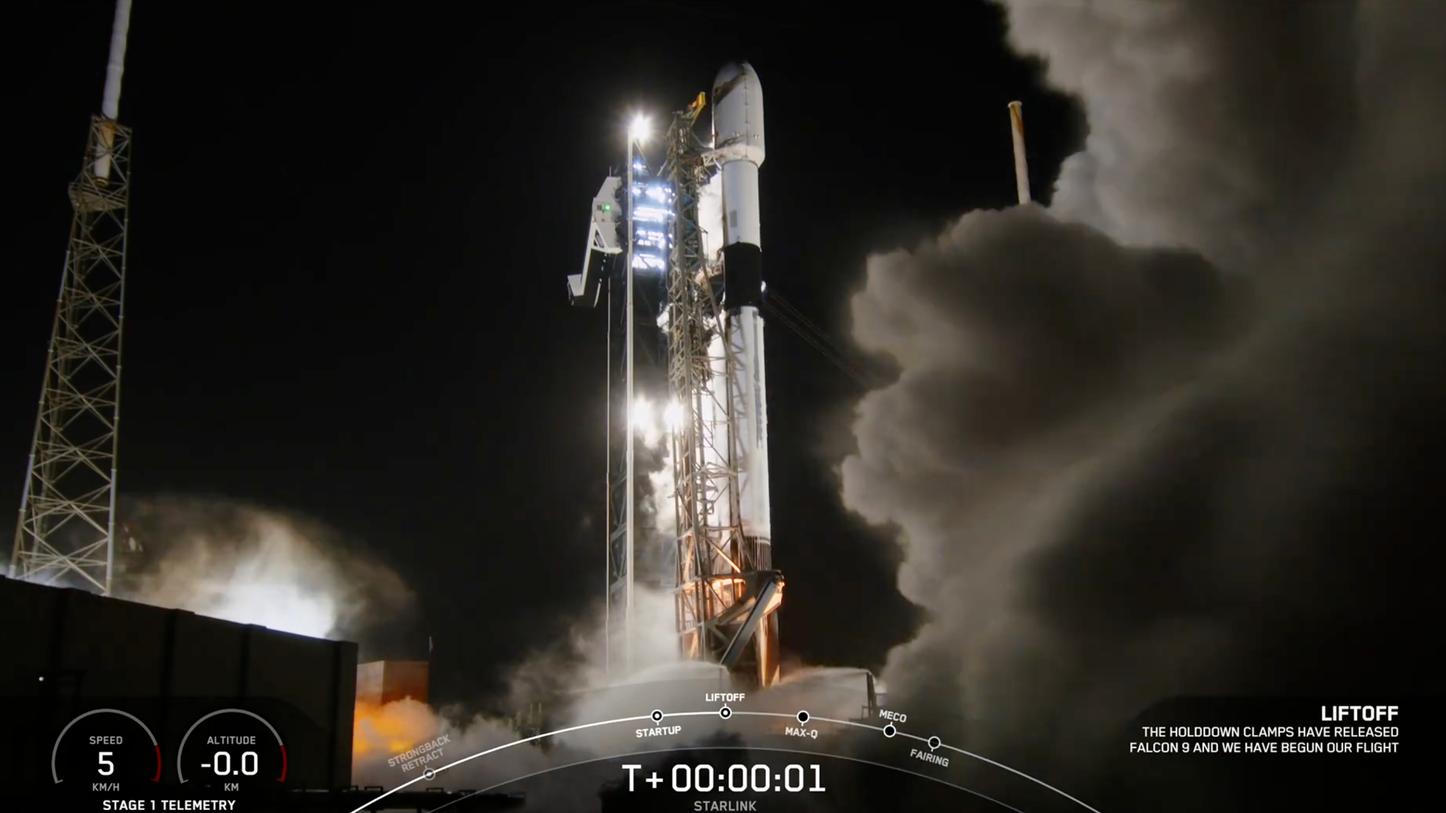falcon: (679, 62, 784, 684)
